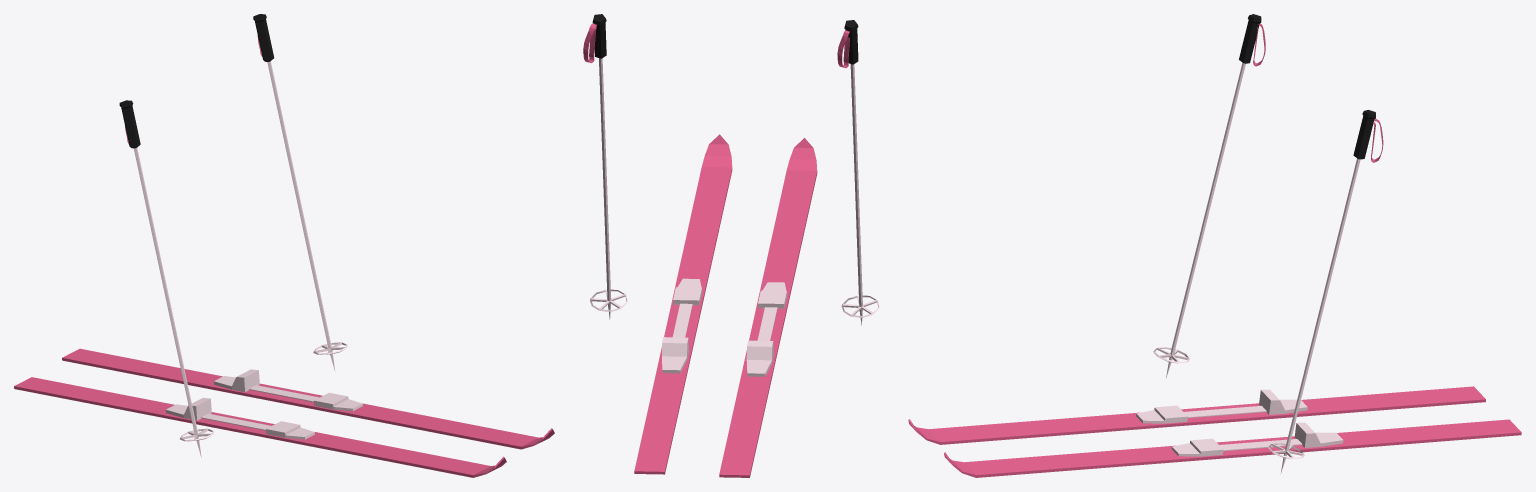
File: skiOnFeet.glb
The picture shows the model from 3 angles, left to right: view 1: azimuth 30°, elevation 25°; view 2: azimuth 150°, elevation 25°; view 3: azimuth 270°, elevation 25°; orthographic projection. The views are drawn at different scales.
Visible parts, largest first — view 1: group915994952.001, group915994952, group1189042932, group1189042932.001; view 2: group915994952, group915994952.001, group1189042932.001, group1189042932, group700172888.001, group700172888; view 3: group915994952, group915994952.001, group1189042932, group1189042932.001.
Part boxes in pixels (left/top/right/bottom): group915994952.001: left=62, top=348, right=554, bottom=449; group915994952: left=14, top=377, right=506, bottom=477; group1189042932: left=119, top=100, right=214, bottom=457; group1189042932.001: left=253, top=14, right=347, bottom=371; group915994952: left=719, top=138, right=817, bottom=477; group915994952.001: left=634, top=134, right=732, bottom=474; group1189042932.001: left=590, top=14, right=627, bottom=319; group1189042932: left=841, top=20, right=879, bottom=325; group700172888.001: left=583, top=23, right=596, bottom=62; group700172888: left=837, top=30, right=849, bottom=67; group915994952: left=908, top=386, right=1485, bottom=444; group915994952.001: left=944, top=419, right=1521, bottom=477; group1189042932: left=1153, top=14, right=1261, bottom=378; group1189042932.001: left=1267, top=110, right=1375, bottom=474.
Bounding box in the file's own units: 3.85 × 4.61 × 6.78.
